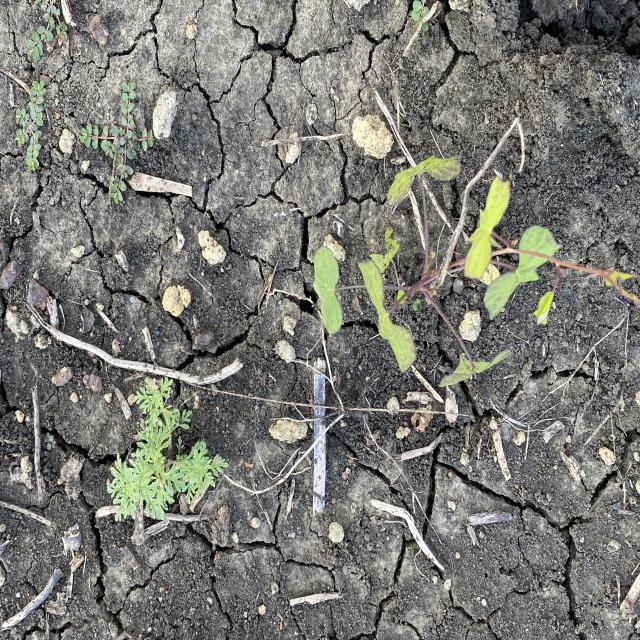MorningGlory: (309, 152, 637, 391)
Ragweed: (104, 372, 230, 526)
SpottedSpurge: (76, 76, 158, 206), (14, 76, 48, 172), (22, 3, 70, 63)
